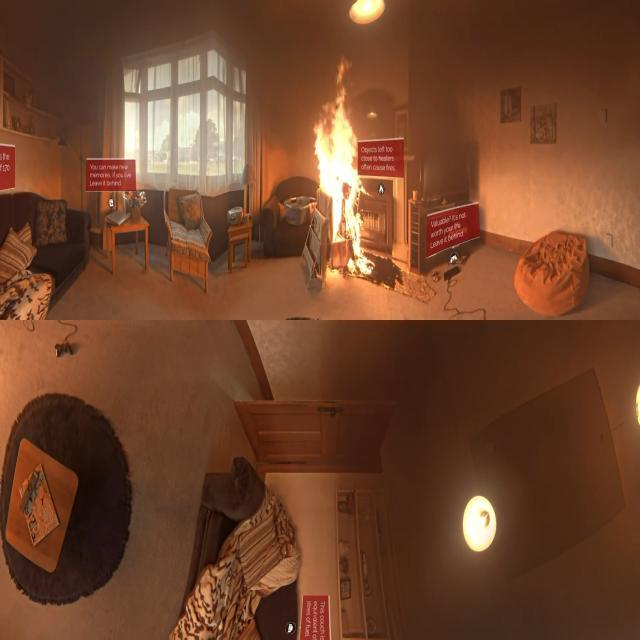Fire: (307, 39, 388, 290)
